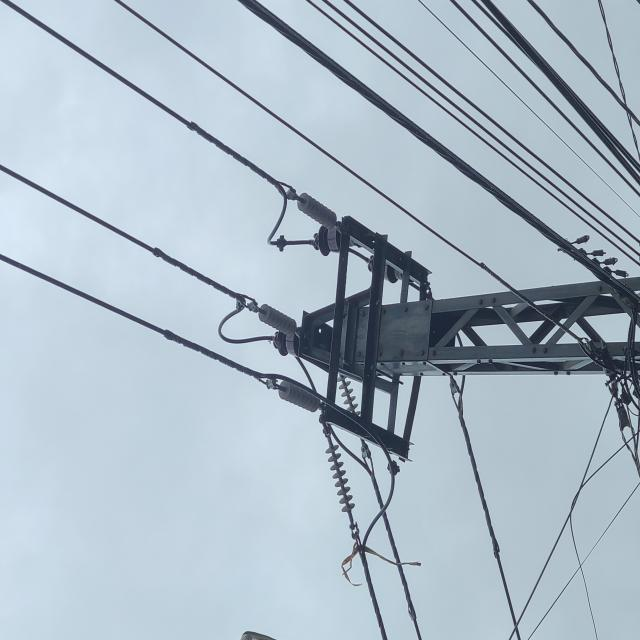植被遮挡: (37, 452, 75, 570)
正常绝缘子: (95, 429, 150, 478), (304, 391, 343, 453), (167, 366, 201, 431), (225, 340, 258, 400)
